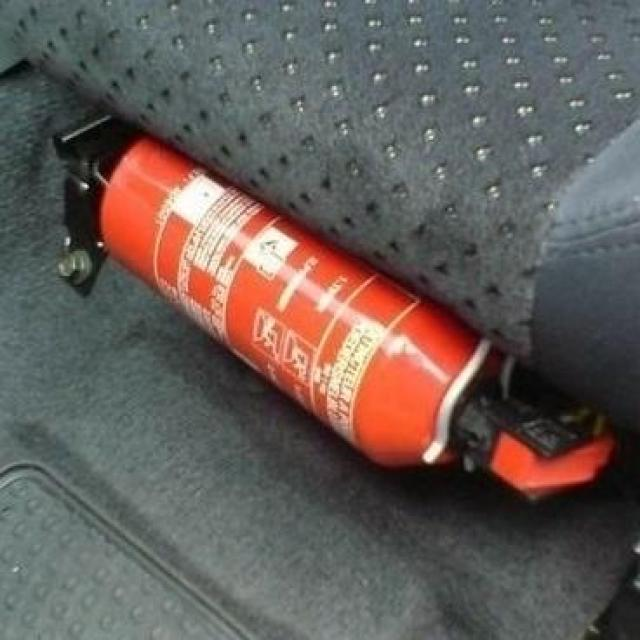fire_extinguisher: (86, 121, 620, 510)
